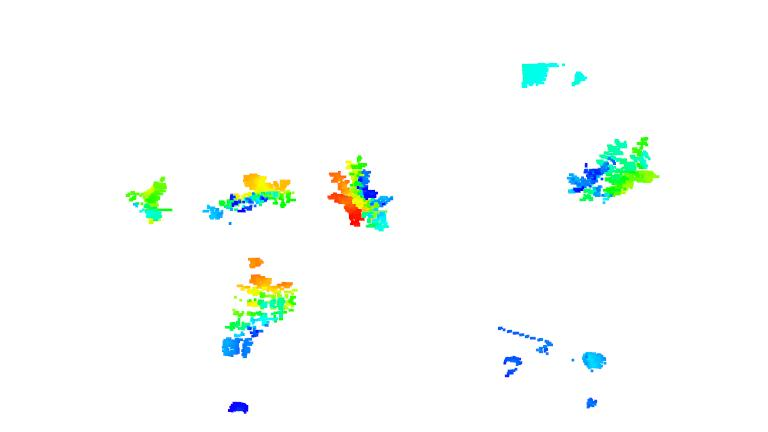chickpea: (217, 255, 300, 361), (565, 135, 661, 206), (324, 155, 397, 234), (199, 169, 298, 225), (123, 174, 174, 226)
